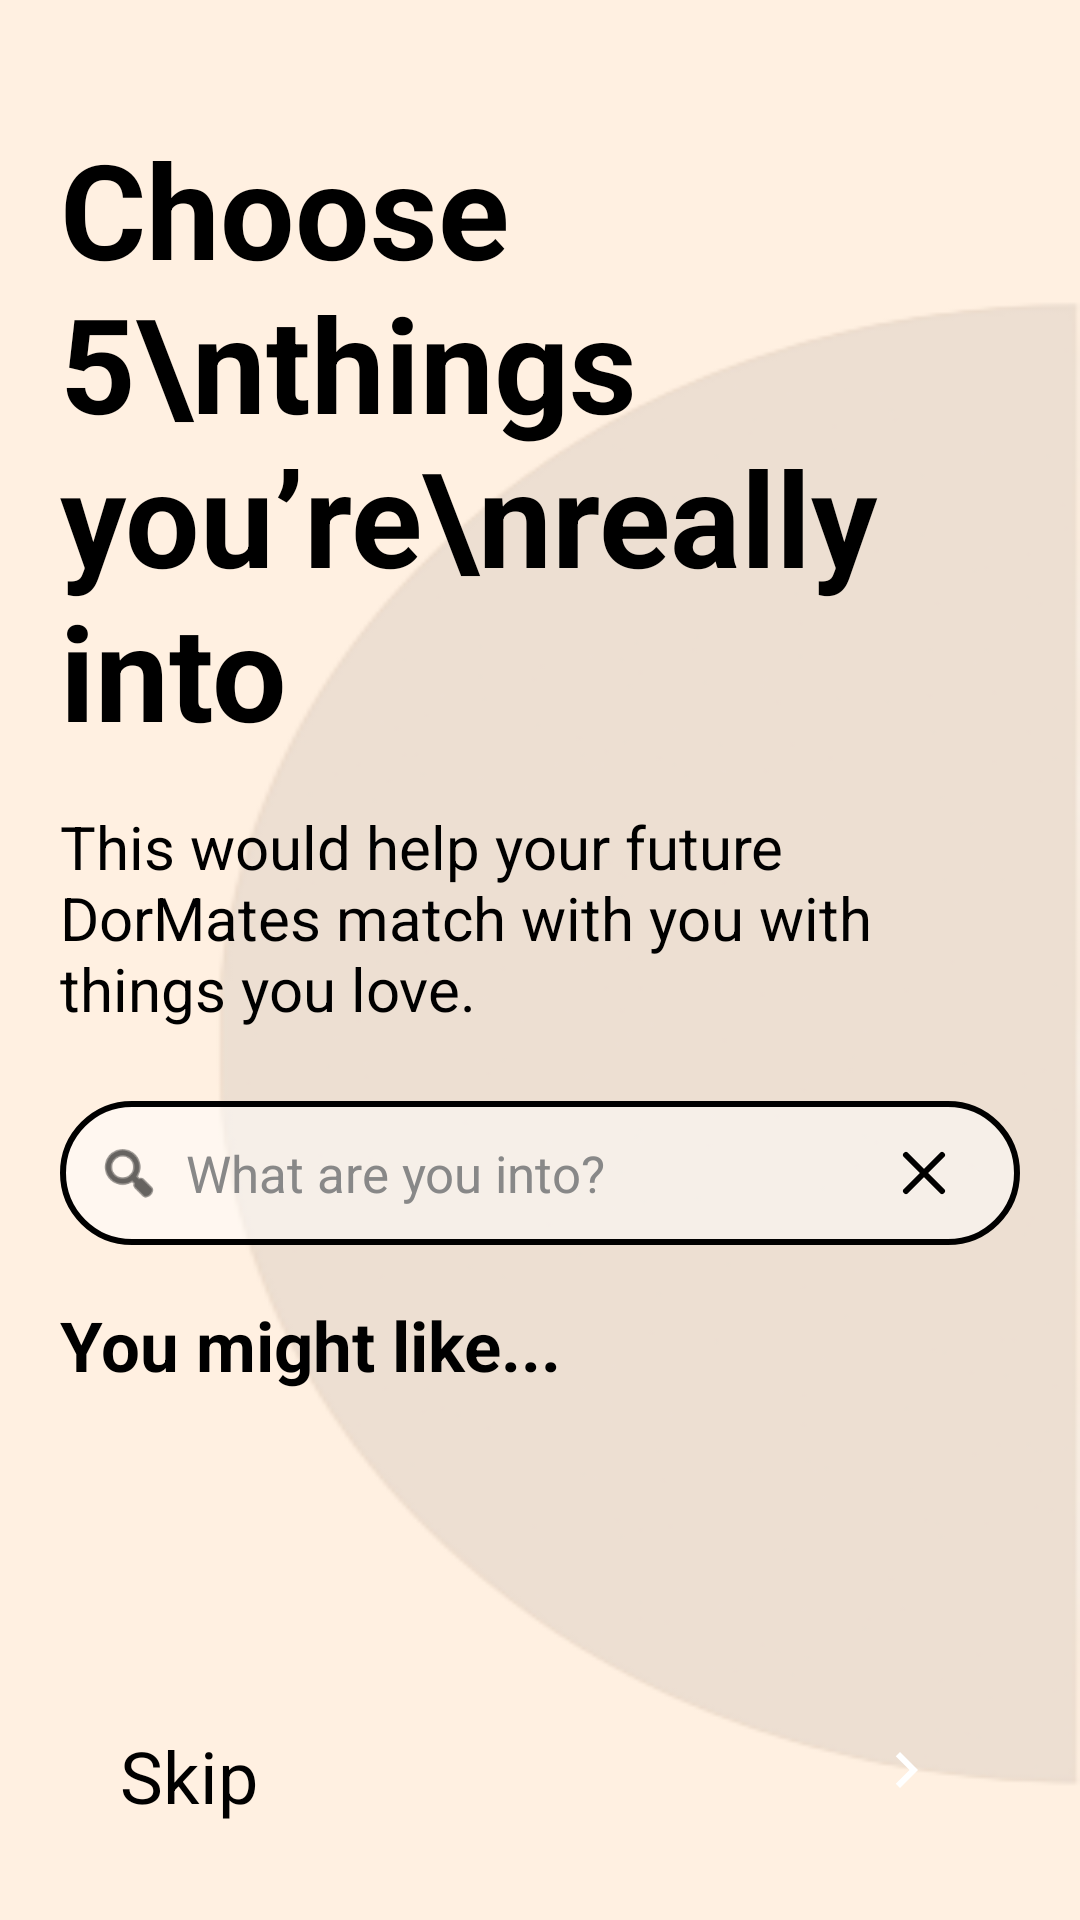

Icons on this 1080px x 1920px Android screen, each with the point to tap as (x=x, y=y):
search: (x=129, y=1173)
